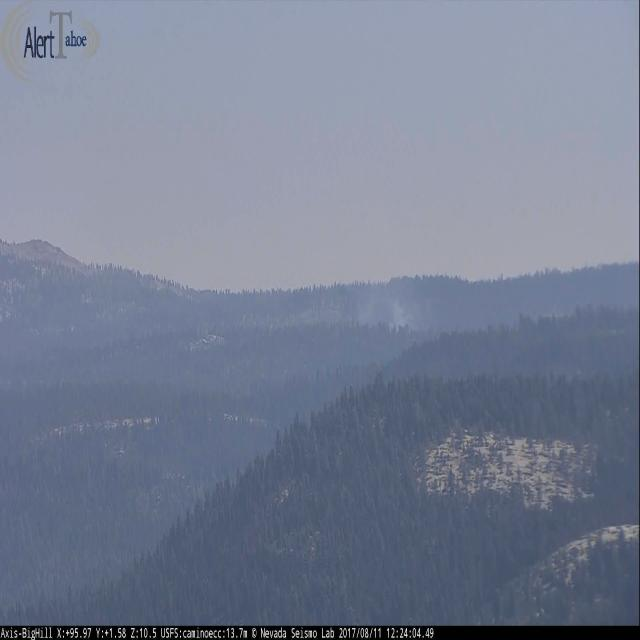smoke: (357, 297, 413, 329)
